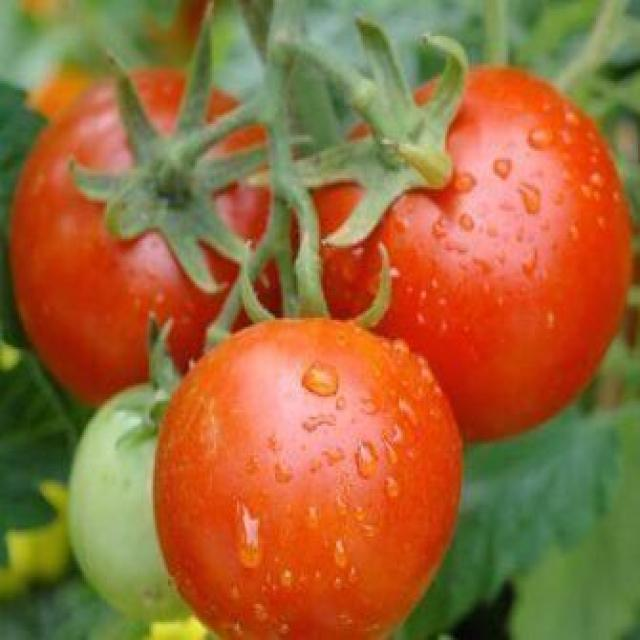level 6: (319, 67, 630, 446), (153, 314, 460, 640), (10, 65, 291, 414)
